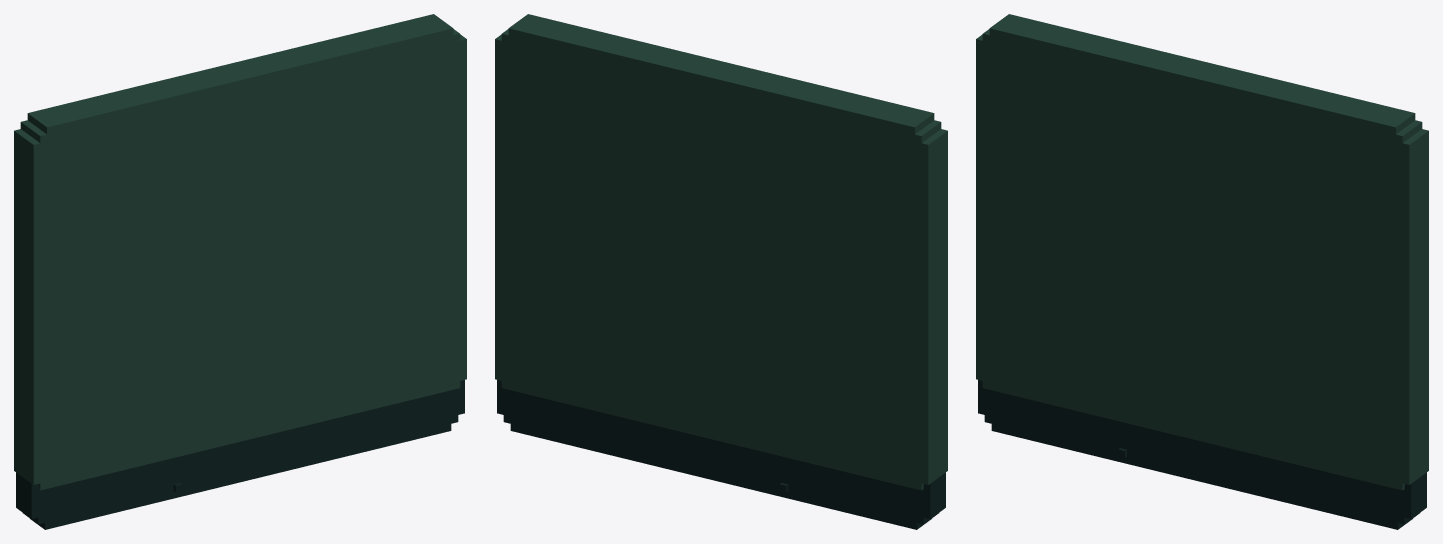
File: radar_base_iki.fbx
The picture shows the model from 3 angles, left to right: view 1: azimuth 30°, elevation 25°; view 2: azimuth 150°, elevation 25°; view 3: azimuth 330°, elevation 25°; orthographic projection.
Parts seen in each view (by area): view 1: generated; view 2: generated; view 3: generated.
Boxes of the visible parts, x1,y1,x2,y2 form: generated: (14,14,466,529); generated: (495,14,947,529); generated: (976,14,1428,529).
Size of the model in its own units: 640 by 570 by 50.
